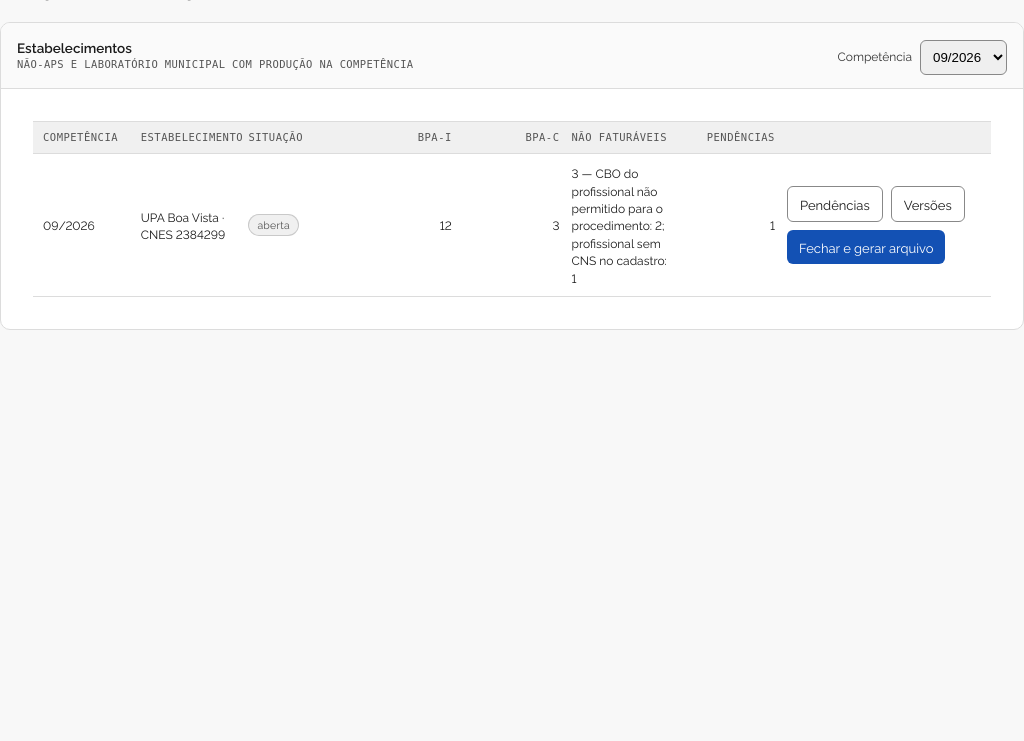
Test case: Pendência do faturista — dados do paciente (módulo 22, D-U1) › paciente sem nome: a lista e o formulário usam a frase, nunca "null"
The image size is (1024, 741).
Step 1. Click the button "Pendências" → click(835, 204), box 787,186 -> 883,222
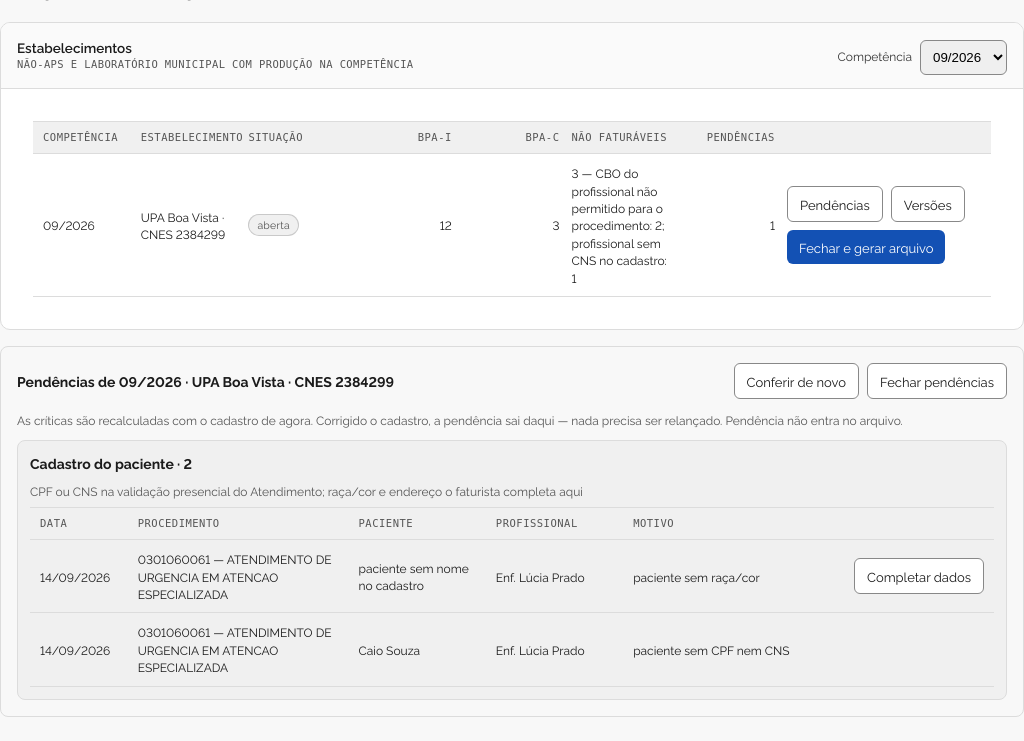
expect the text "Cadastro do paciente · 2" is shown: met, box 30,453 -> 192,472
expect the text "paciente sem nome no cadastro" is shown: met, box 358,559 -> 484,594
Step 2. Click the button "Completar dados" → click(919, 576), box 854,558 -> 984,594
(page scrolled)
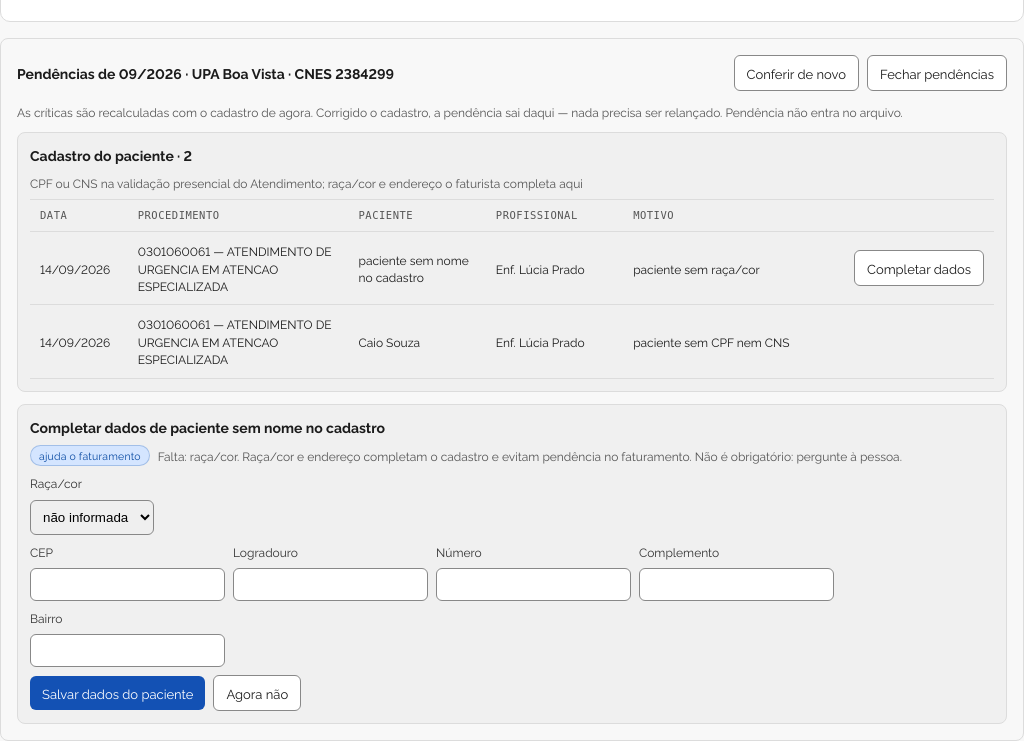
expect the element "Completar dados de paciente sem nome no cadastro" is shown: met, box 17,404 -> 1007,724
